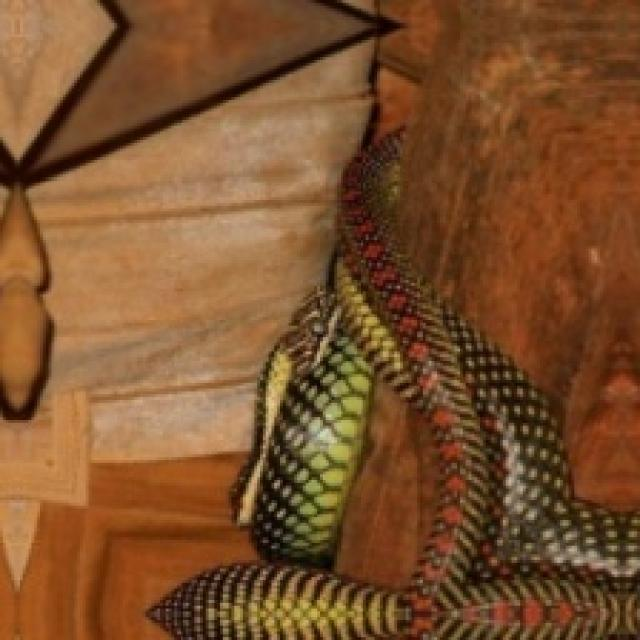paradise tree snake: (151, 134, 637, 637)
